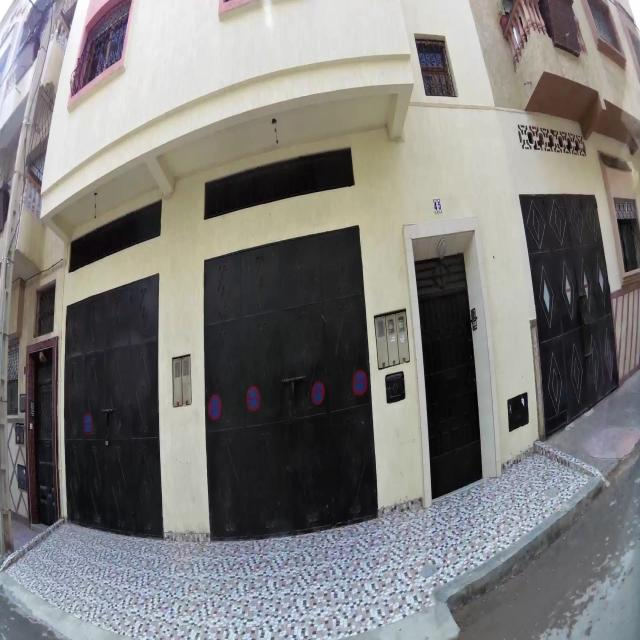forb_stopping: (84, 411, 93, 436)
forb_waiting: (351, 368, 366, 393), (246, 385, 260, 411), (207, 394, 221, 417)
